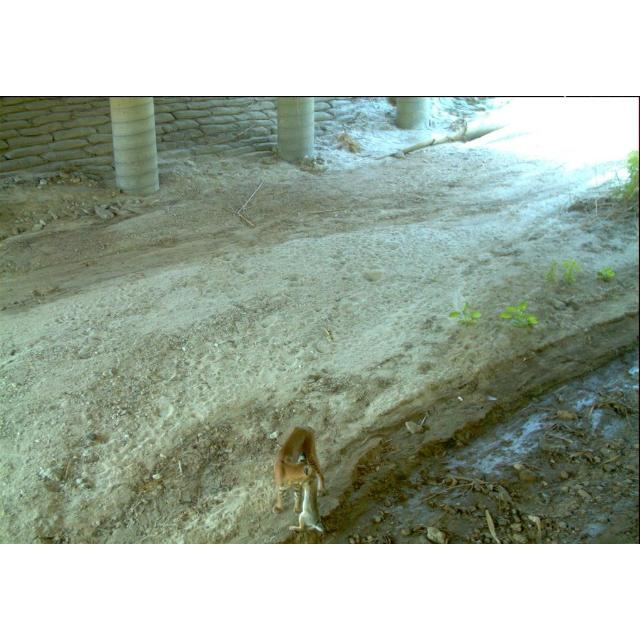animals: (274, 420, 328, 532)
